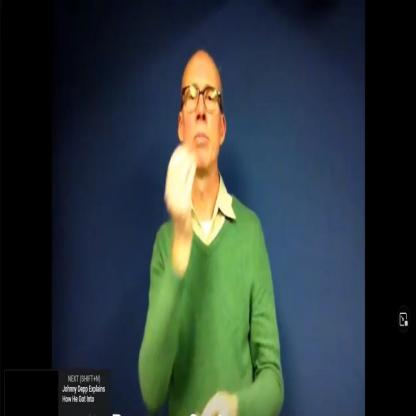Food: (166, 46, 247, 235)
